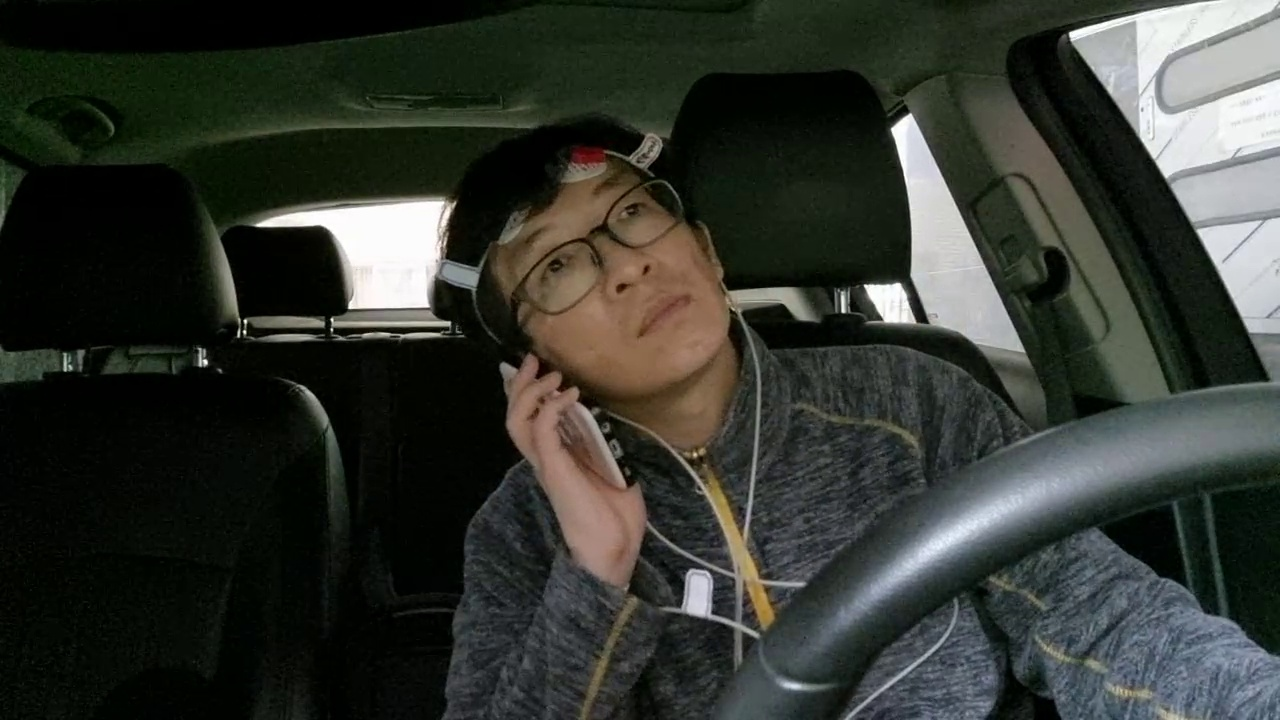phone: (476, 339, 656, 543)
